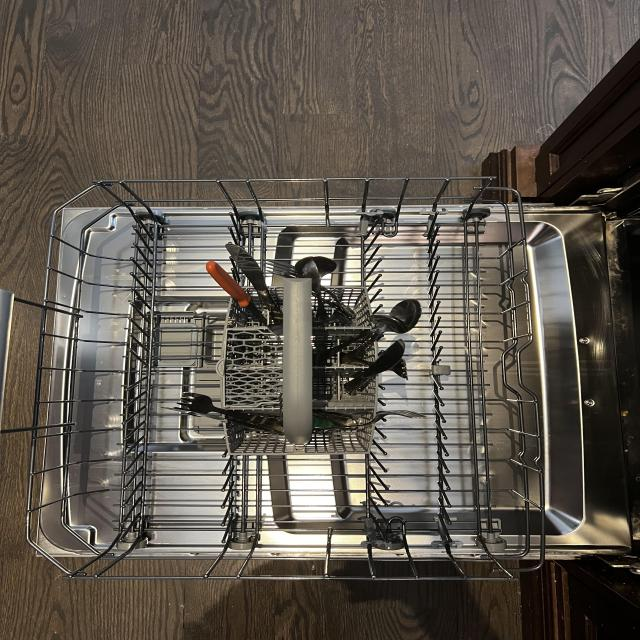Fork: (174, 390, 283, 431), (313, 409, 428, 436), (263, 257, 310, 278), (312, 310, 358, 327)
Knife: (223, 242, 284, 323), (160, 406, 286, 439), (206, 260, 268, 326), (342, 338, 407, 394)
Spoon: (312, 298, 424, 365), (344, 314, 408, 363), (295, 254, 338, 326), (301, 258, 332, 324)
